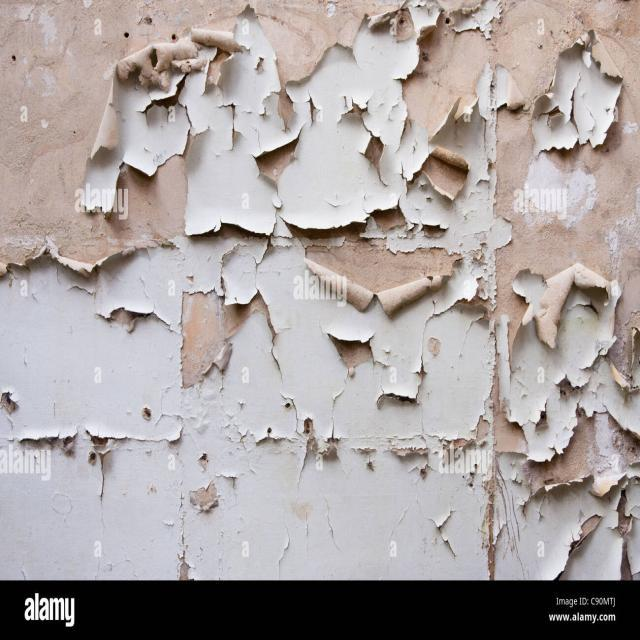peeling: (3, 10, 637, 569)
